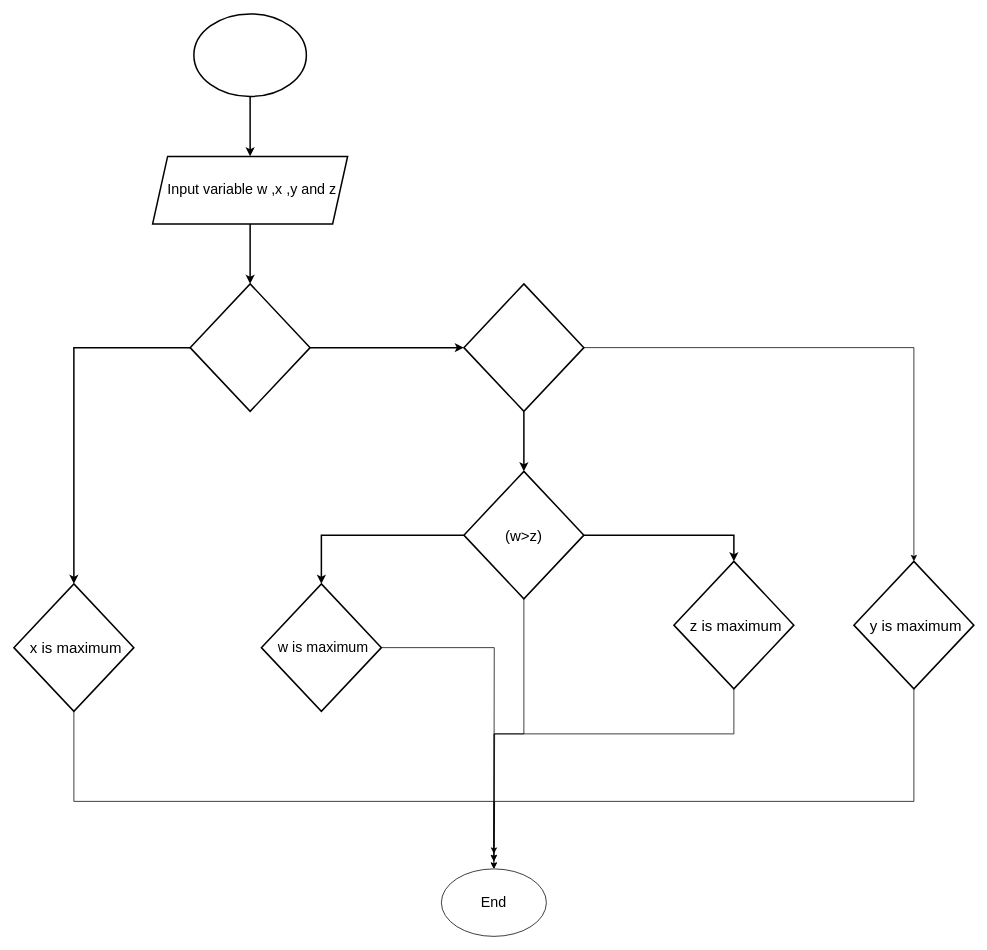
Image size: 987x950. Some labels were removed from this diagram. The shapes that lost their labels are listed below. From the top down, each one's centre as x and y in pixels, then its label:
At (250,55): "Start".
At (249,347): "(w>x)".
At (523,347): "(w>y)".
